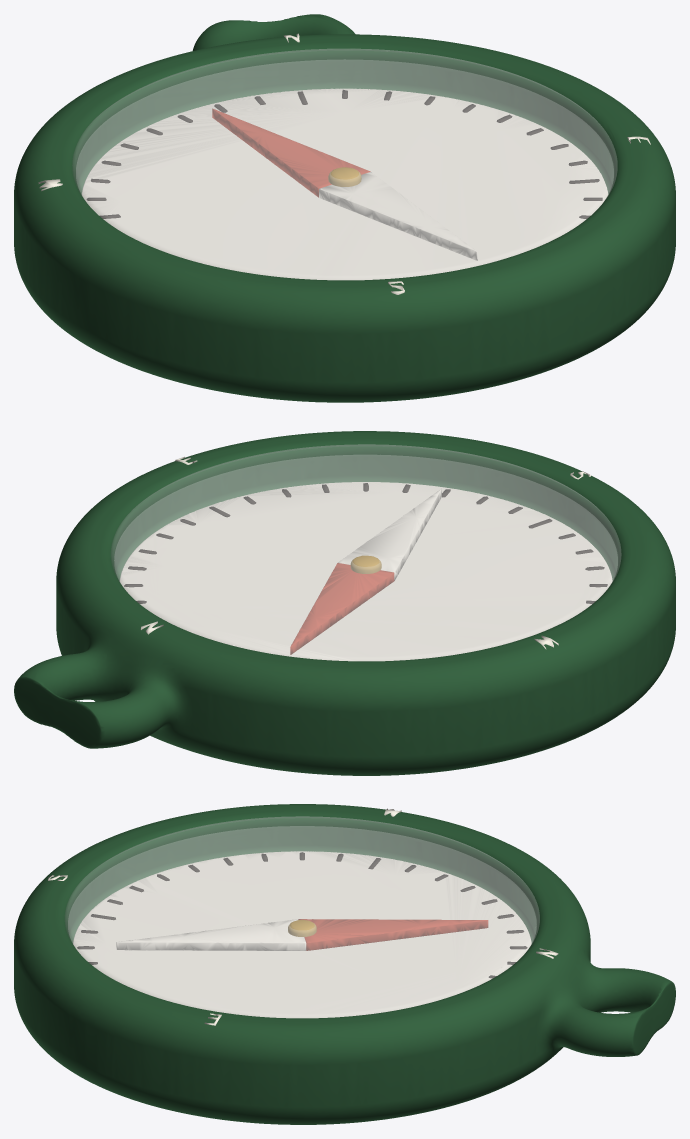
Rendered from maps.glb.
3 views of the same model, one above another, from view 1: azimuth 30°, elevation 25°; view 2: azimuth 150°, elevation 25°; view 3: azimuth 270°, elevation 25° (orthographic). The views are drawn at different scales.
Visible parts, largest first — view 1: mp-case, mp-glass, mp-north; view 2: mp-case, mp-glass, mp-north; view 3: mp-case, mp-glass, mp-north.
Boxes of the visible parts, x1,y1,x2,y2 form: mp-case: [14, 14, 675, 402]; mp-glass: [72, 49, 617, 279]; mp-north: [212, 108, 477, 260]; mp-case: [14, 431, 675, 775]; mp-glass: [111, 444, 621, 660]; mp-north: [290, 489, 441, 654]; mp-case: [14, 804, 675, 1124]; mp-glass: [65, 816, 539, 1017]; mp-north: [116, 919, 488, 950].
Bounding box in the file's own units: 0.064 × 0.0122 × 0.0735.
4 materials, 4 textured.
